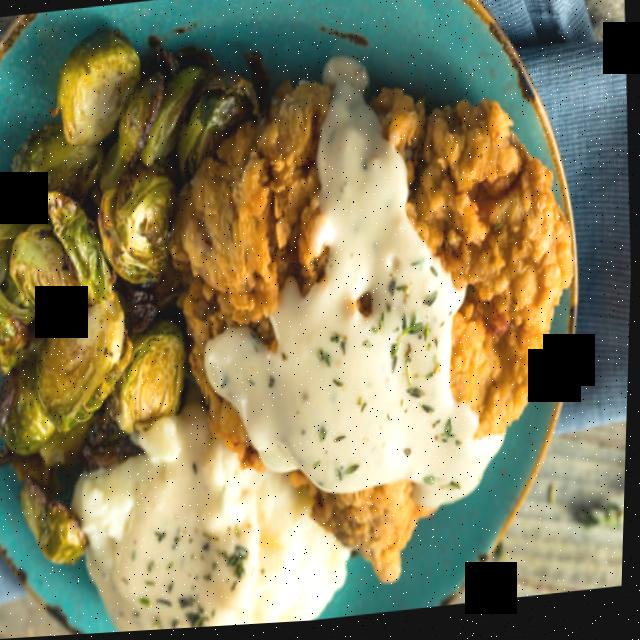Frango: (54, 49, 597, 637)
